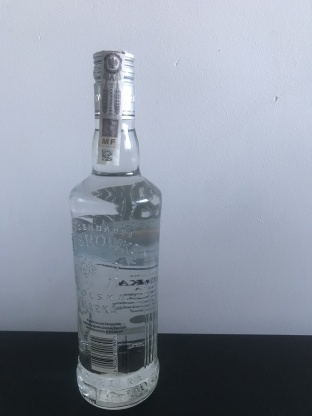nakretka: (89, 44, 138, 123)
